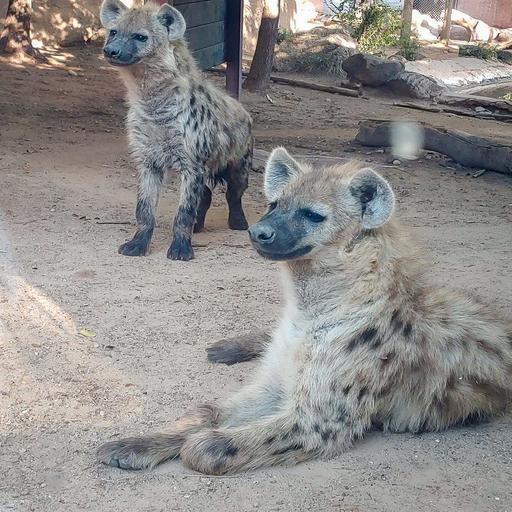Hyena: (88, 143, 512, 478), (86, 0, 255, 267)
